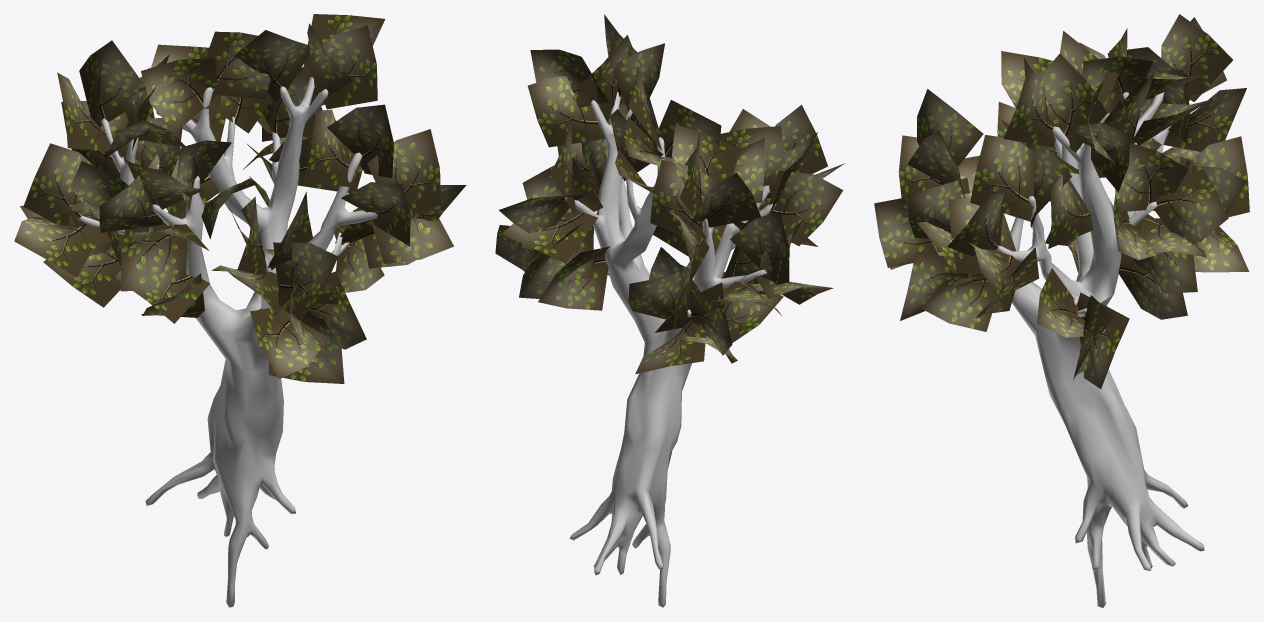
The model's file is tree5.FBX.
3 renders of one model, left to right at view 1: azimuth 30°, elevation 25°; view 2: azimuth 150°, elevation 25°; view 3: azimuth 270°, elevation 25°, orthographic. The views are drawn at different scales.
Visible parts, largest first — view 1: tree5; view 2: tree5; view 3: tree5.
Part boxes in pixels (x1,y1,x2,y2): tree5: [14, 14, 466, 607]; tree5: [495, 14, 844, 607]; tree5: [874, 14, 1249, 607].
Size of the model in its own units: 156 by 223 by 129.
